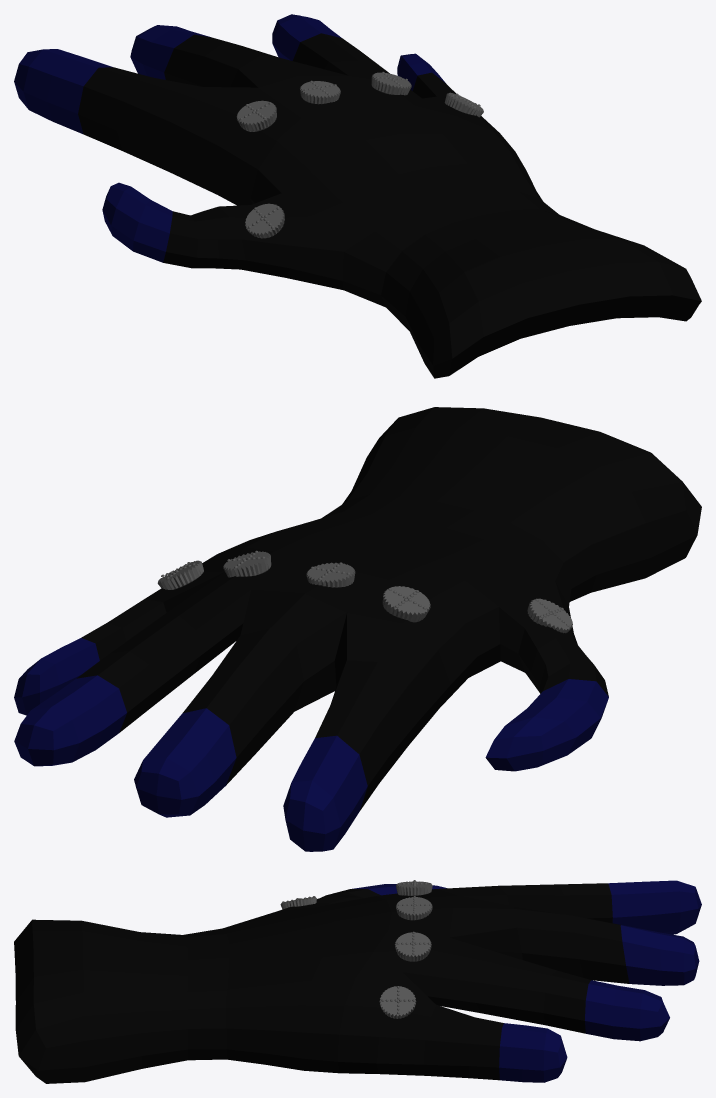
File: right_glove.obj
The picture shows the model from 3 angles, top to bottom: view 1: azimuth 30°, elevation 25°; view 2: azimuth 150°, elevation 25°; view 3: azimuth 270°, elevation 25°; orthographic projection. The views are drawn at different scales.
Parts seen in each view (by area): view 1: Right_gGove; view 2: Right_gGove; view 3: Right_gGove.
Part boxes in pixels (left/top/right/bottom): Right_gGove: left=14, top=14, right=701, bottom=378; Right_gGove: left=14, top=407, right=701, bottom=851; Right_gGove: left=14, top=880, right=701, bottom=1083.
Bounding box in the file's own units: 3.58 × 1.09 × 6.04.
